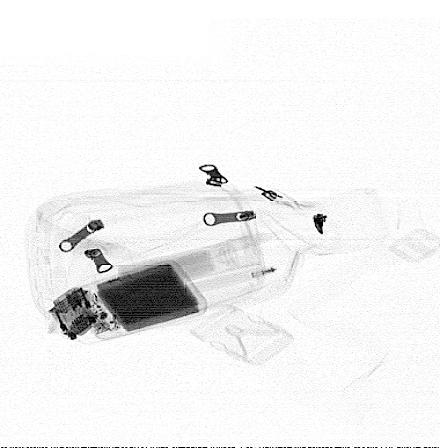Powerbank: (69, 259, 208, 341)
